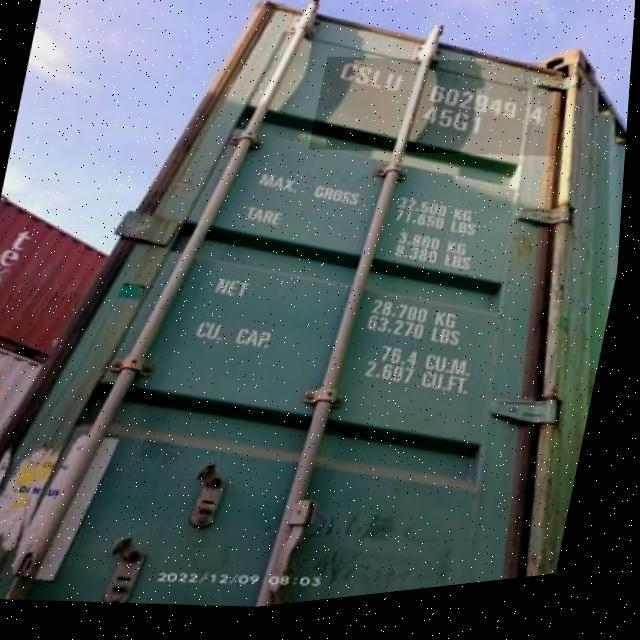container_number_h: (309, 43, 578, 192)
